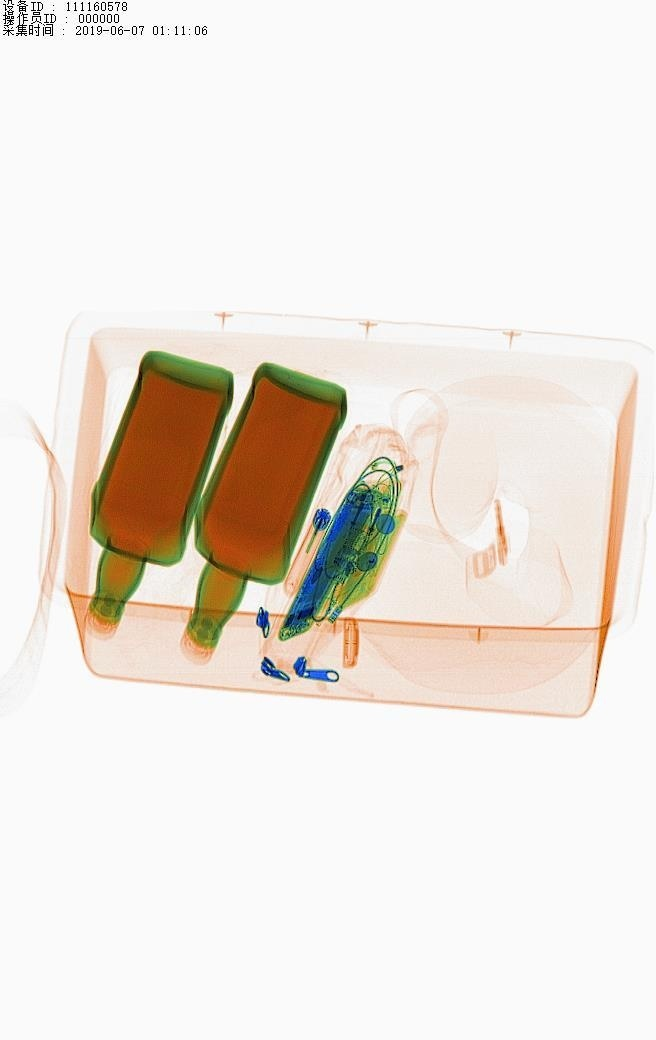NonmetallicFire: (276, 489, 346, 607)
